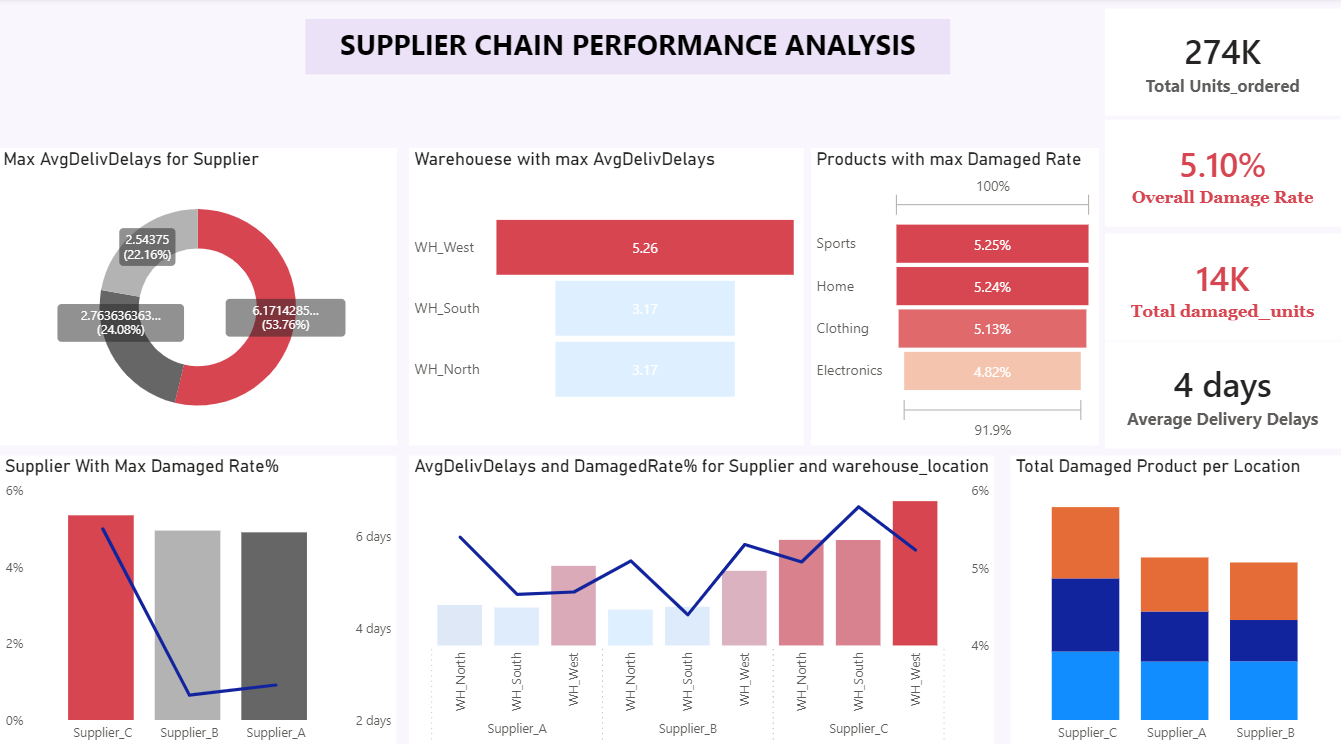

The dashboard page shown, as its layout file describes it:
{"tool":"powerbi","page":{"name":"Supplier Analysis","canvas":[1280,720],"ordinal":0},"visuals":[{"type":"donutChart","title":"Max AvgDelivDelays for Supplier","fields":{"Y":["plain-1.AvgDelivDelays"],"Category":["plain-1.supplier_name"]},"box":[0,145.5,379.8,283.5],"z":0},{"type":"cardVisual","fields":{"Data":["plain-1.AvgDelivDelays"]},"box":[1054.5,330.7,224.9,102],"z":1000},{"type":"funnel","title":"Warehouese with max AvgDelivDelays ","fields":{"Category":["plain-1.warehouse_location"],"Y":["plain-1.AvgDelivDelays"]},"box":[391.2,145.5,376.1,283.5],"z":2000},{"type":"cardVisual","fields":{"Data":["Sum(plain-1.units_ordered)"]},"box":[1054.5,13.2,224.9,102],"z":3000},{"type":"cardVisual","fields":{"Data":["plain-1.TotalDamagedUnits"]},"box":[1054.5,119.1,224.9,102],"z":4000},{"type":"lineStackedColumnComboChart","title":"Supplier With Max Damaged Rate% ","fields":{"Category":["plain-1.supplier_name"],"Y":["plain-1.TotalDamagedUnits"],"Y2":["plain-1.AvgDelivDelays"]},"box":[1.9,438.4,378,281.6],"z":5000},{"type":"lineStackedColumnComboChart","title":"AvgDelivDelays and DamagedRate% for Supplier and warehouse_location","fields":{"Category":["plain-1.supplier_name","plain-1.warehouse_location"],"Y":["plain-1.AvgDelivDelays"],"Y2":["plain-1.TotalDamagedUnits"]},"box":[391.2,438.4,557.5,281.6],"z":6000},{"type":"textbox","box":[292.9,22.7,614.2,52.9],"z":7000},{"type":"cardVisual","fields":{"Data":["Sum(plain-1.damaged_units)"]},"box":[1054.5,226.8,224.9,102],"z":8000},{"type":"columnChart","title":"Total Damaged Product per Location","fields":{"Y":["Sum(plain-1.damaged_units)"],"Category":["plain-1.supplier_name"],"Series":["plain-1.warehouse_location"]},"box":[963.8,438.4,315.6,281.6],"z":9000},{"type":"funnel","title":"Products with max Damaged Rate ","fields":{"Category":["plain-1.product_category","plain-1.supplier_name"],"Y":["plain-1.TotalDamagedUnits"]},"box":[774.8,145.5,274,283.5],"z":10000}]}

Visuals, with their boxes in screenshot pixels (x1, y1, x2, y2), scaled from the page's 1280x720 canvas onto the 1341x744 screenshot:
"Max AvgDelivDelays for Supplier" donutChart: (left=0, top=150, right=398, bottom=443)
cardVisual - plain-1.AvgDelivDelays: (left=1105, top=342, right=1340, bottom=447)
"Warehouese with max AvgDelivDelays " funnel: (left=410, top=150, right=804, bottom=443)
cardVisual - Sum(plain-1.units_ordered): (left=1105, top=14, right=1340, bottom=119)
cardVisual - plain-1.TotalDamagedUnits: (left=1105, top=123, right=1340, bottom=228)
"Supplier With Max Damaged Rate% " lineStackedColumnComboChart: (left=2, top=453, right=398, bottom=743)
"AvgDelivDelays and DamagedRate% for Supplier and warehouse_location" lineStackedColumnComboChart: (left=410, top=453, right=994, bottom=743)
textbox: (left=307, top=23, right=950, bottom=78)
cardVisual - Sum(plain-1.damaged_units): (left=1105, top=234, right=1340, bottom=340)
"Total Damaged Product per Location" columnChart: (left=1010, top=453, right=1340, bottom=743)
"Products with max Damaged Rate " funnel: (left=812, top=150, right=1099, bottom=443)
